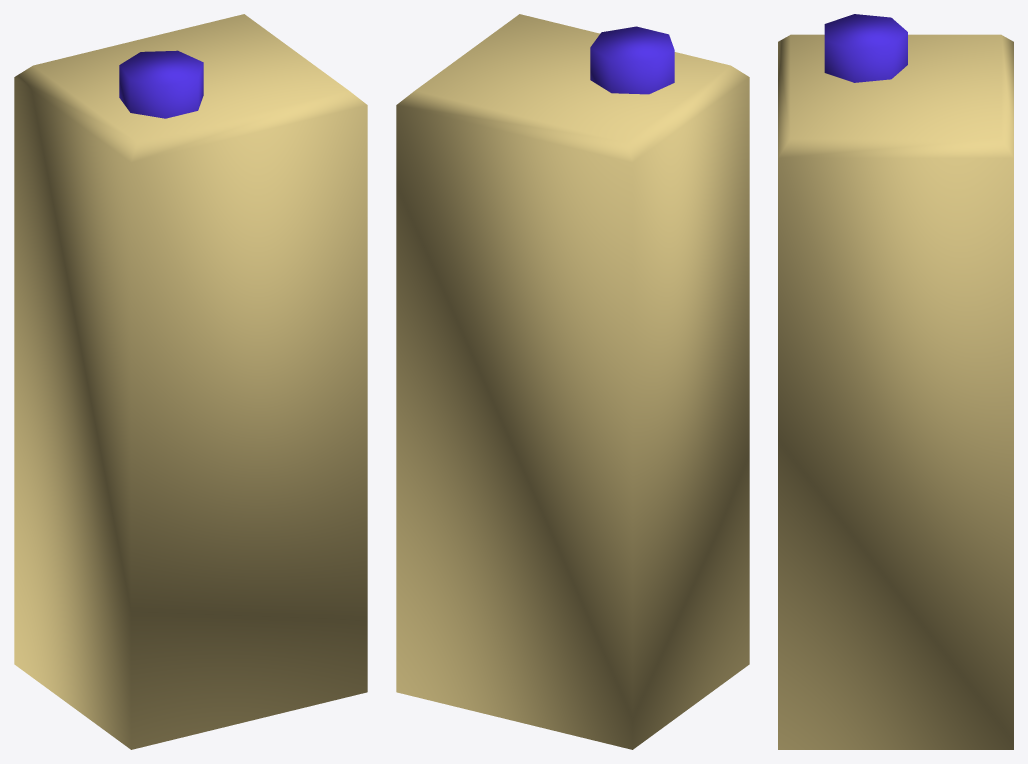
Rendered from succo_mela.fbx.
3 renders of one model, left to right at view 1: azimuth 30°, elevation 25°; view 2: azimuth 150°, elevation 25°; view 3: azimuth 270°, elevation 25°, orthographic.
Parts seen in each view (by area): view 1: mela; view 2: mela; view 3: mela.
Boxes of the visible parts, x1,y1,x2,y2 form: mela: (14, 14, 367, 749); mela: (396, 14, 749, 749); mela: (778, 14, 1013, 749).
Size of the model in its own units: 82.46 by 211 by 70.7.
